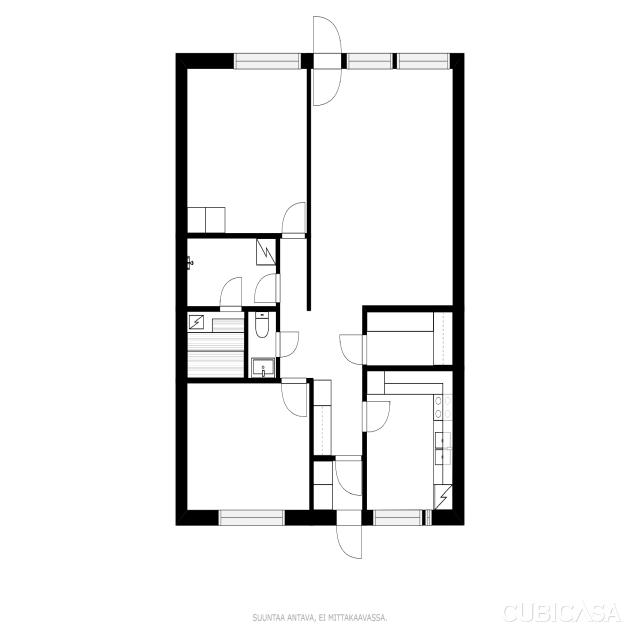door: (305, 10, 344, 110), (246, 271, 279, 380), (332, 507, 366, 566), (278, 372, 313, 422), (276, 194, 310, 242), (332, 452, 365, 499), (358, 395, 394, 436), (334, 327, 370, 368), (248, 268, 283, 309), (273, 326, 303, 362), (217, 274, 244, 312)
window: (342, 51, 454, 74), (226, 46, 308, 76), (209, 504, 291, 532), (392, 44, 456, 74), (367, 506, 436, 532), (342, 48, 400, 72)
zone: (306, 60, 459, 314), (180, 61, 312, 237), (180, 378, 313, 519), (364, 367, 456, 518), (181, 237, 278, 310), (362, 307, 457, 368), (184, 308, 248, 380), (246, 309, 279, 381)
